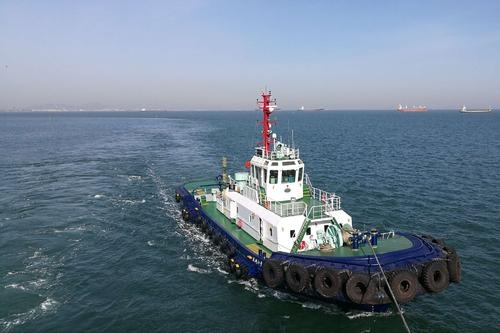otherboat: (171, 88, 464, 308)
